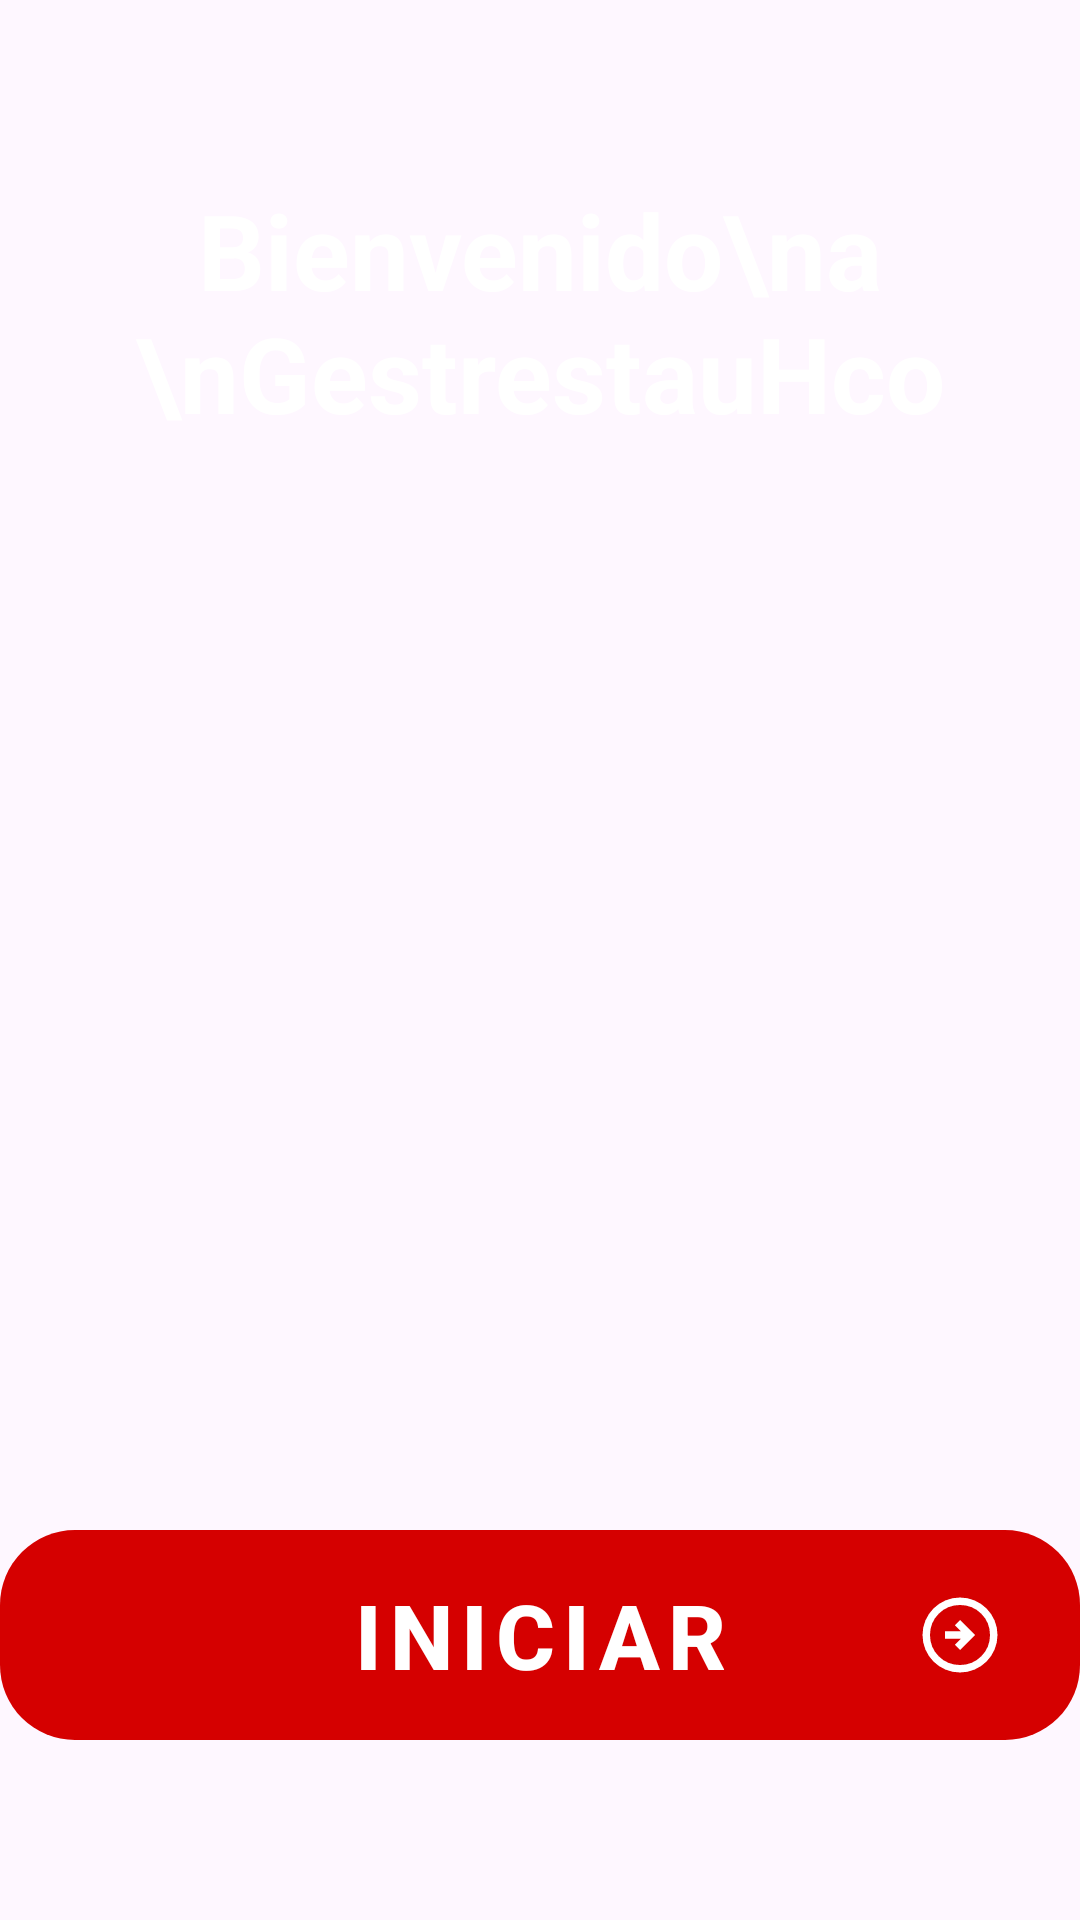

Screen size 1080x1920. Icon name, then its box in pixels as bbox=(x1, y1, x2, y2):
flecha inicio: bbox=(922, 1597, 998, 1673)
